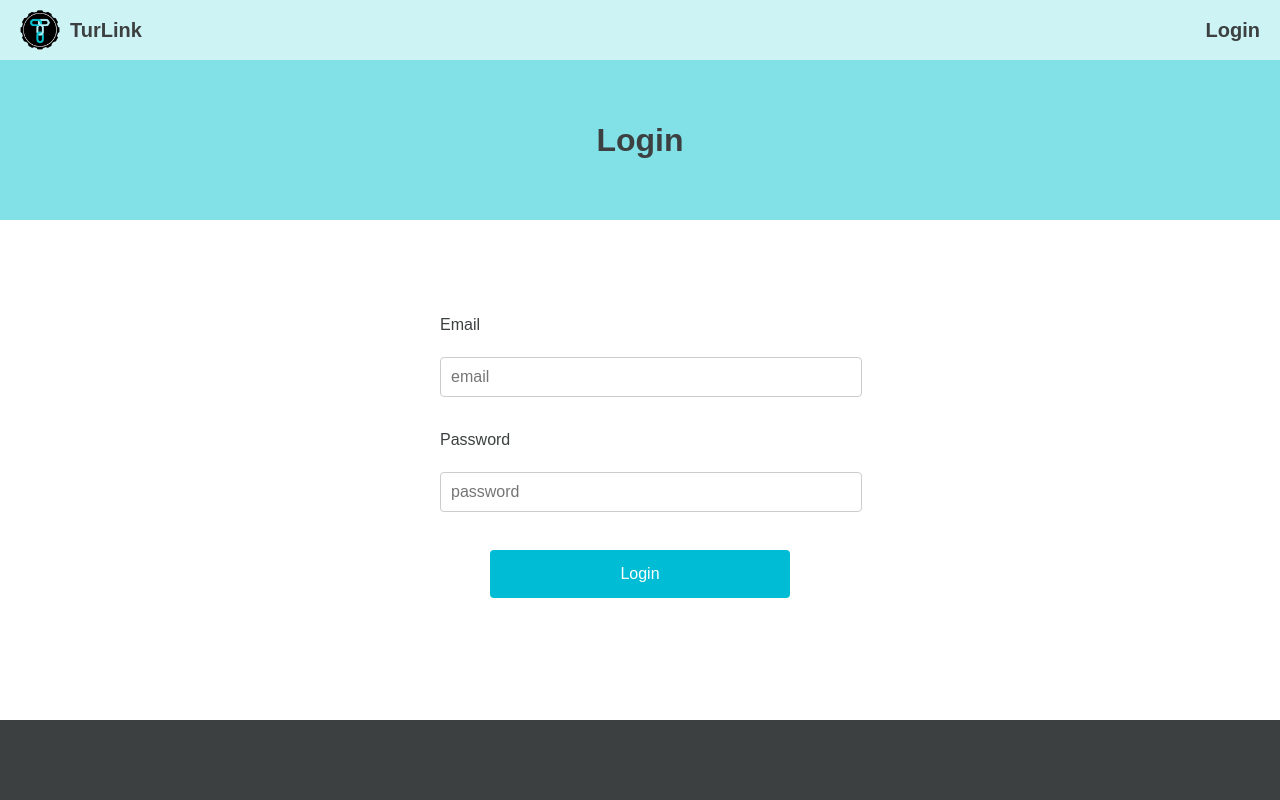
Test: Login Page Tests › should submit a second original link and return a second shortened link
This screenshot has width=1280, height=800.
Type "kim@example.com" into the field with class "email-input" at (651, 377), box [440, 357, 862, 397]
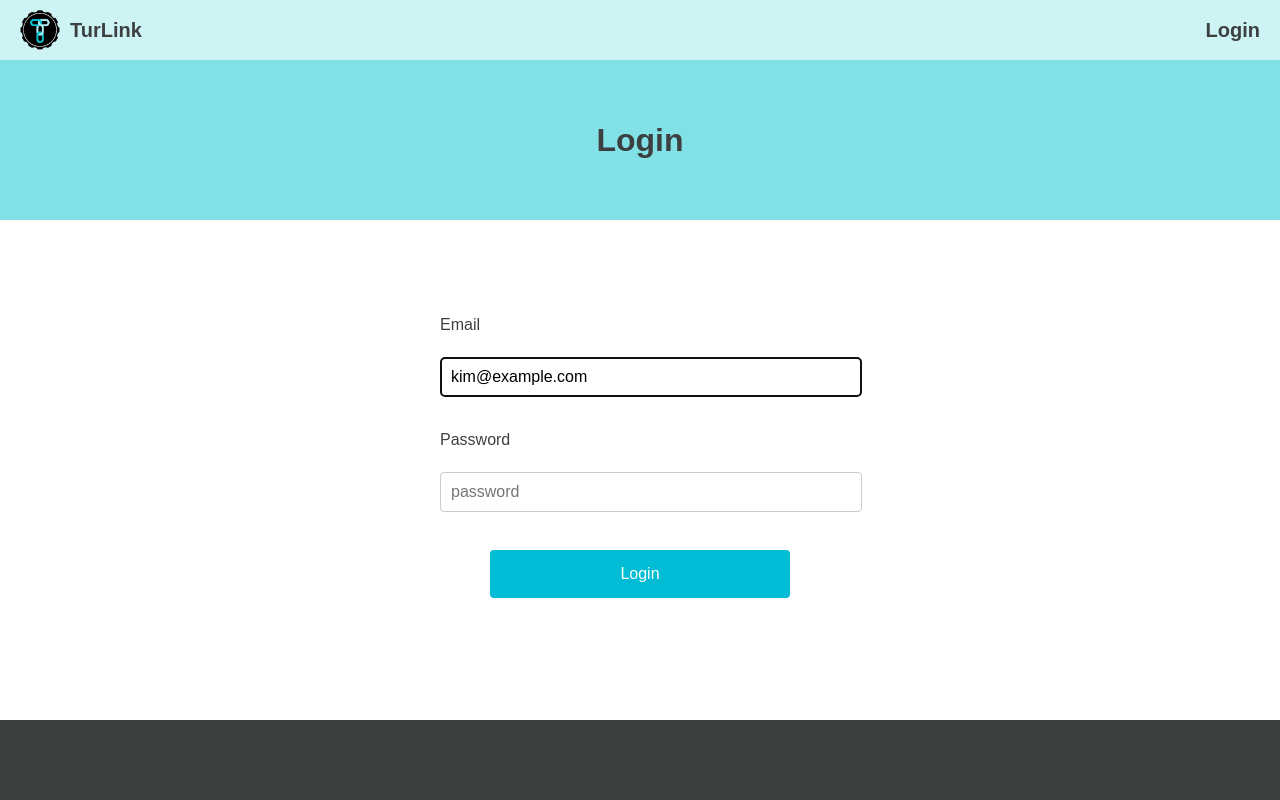
Type "kim123" into the password field with placeholder "password" at (651, 492), box [440, 472, 862, 512]
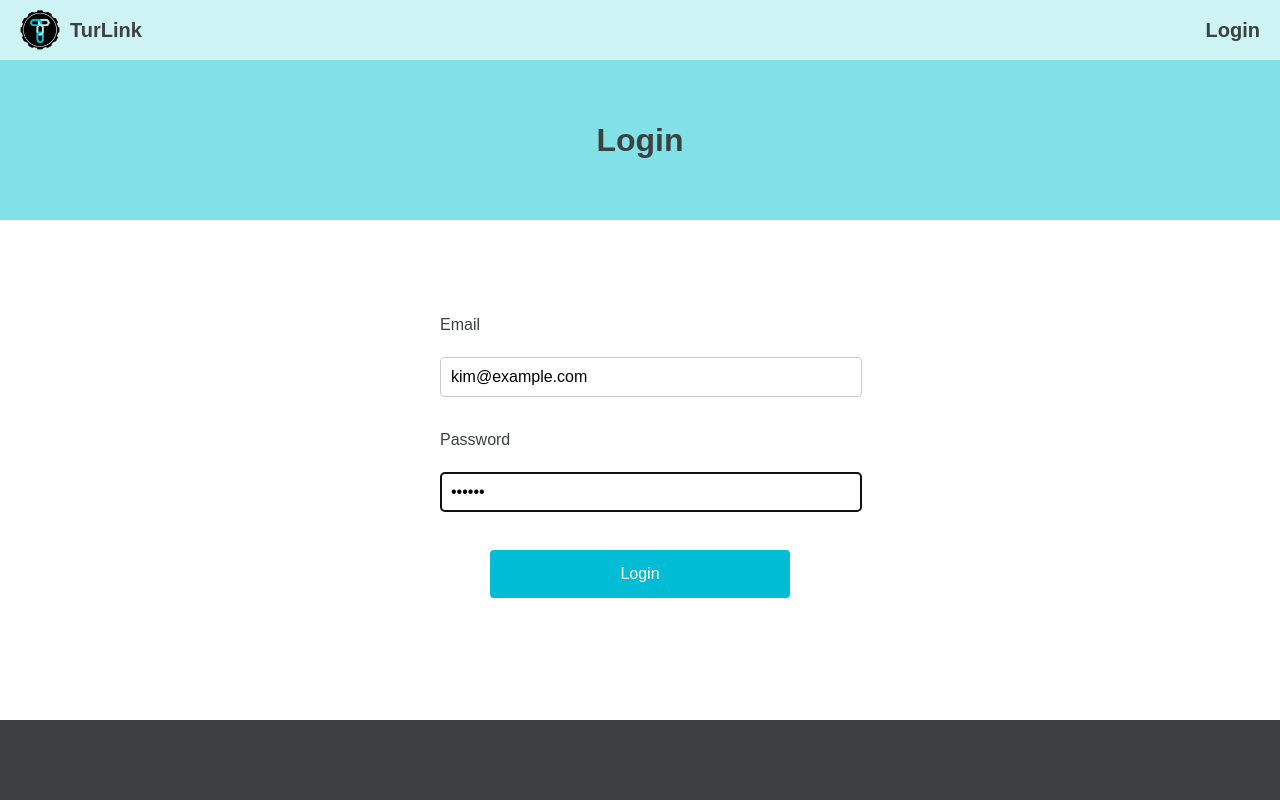
Click the button with class "login-button" at (640, 574), box [490, 550, 790, 598]
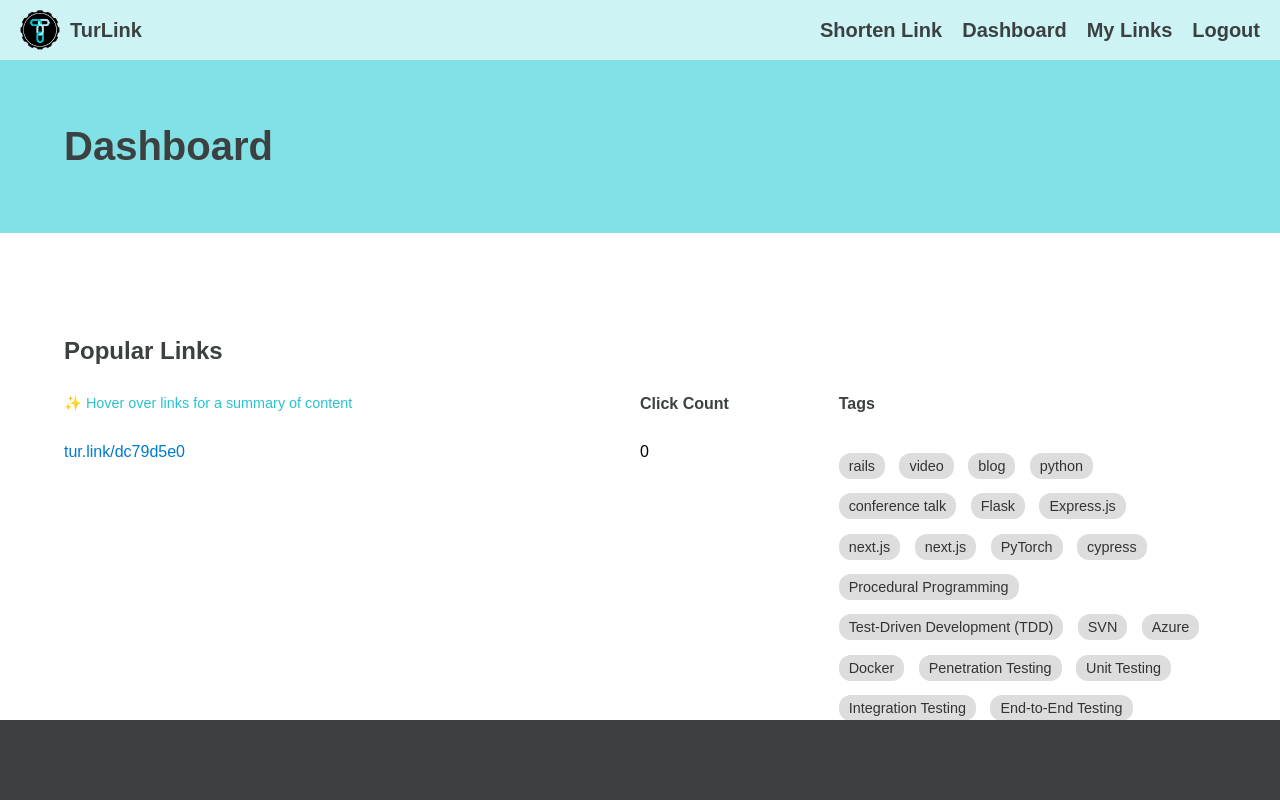
Expected: the navigation bar with class "navbar" is shown, [20, 10, 1260, 50]
Expected: the heading with class "dashboard-header" reads "Dashboard", [64, 124, 273, 168]
Click the link to "/shortenlink" at (881, 31), box [820, 19, 942, 42]
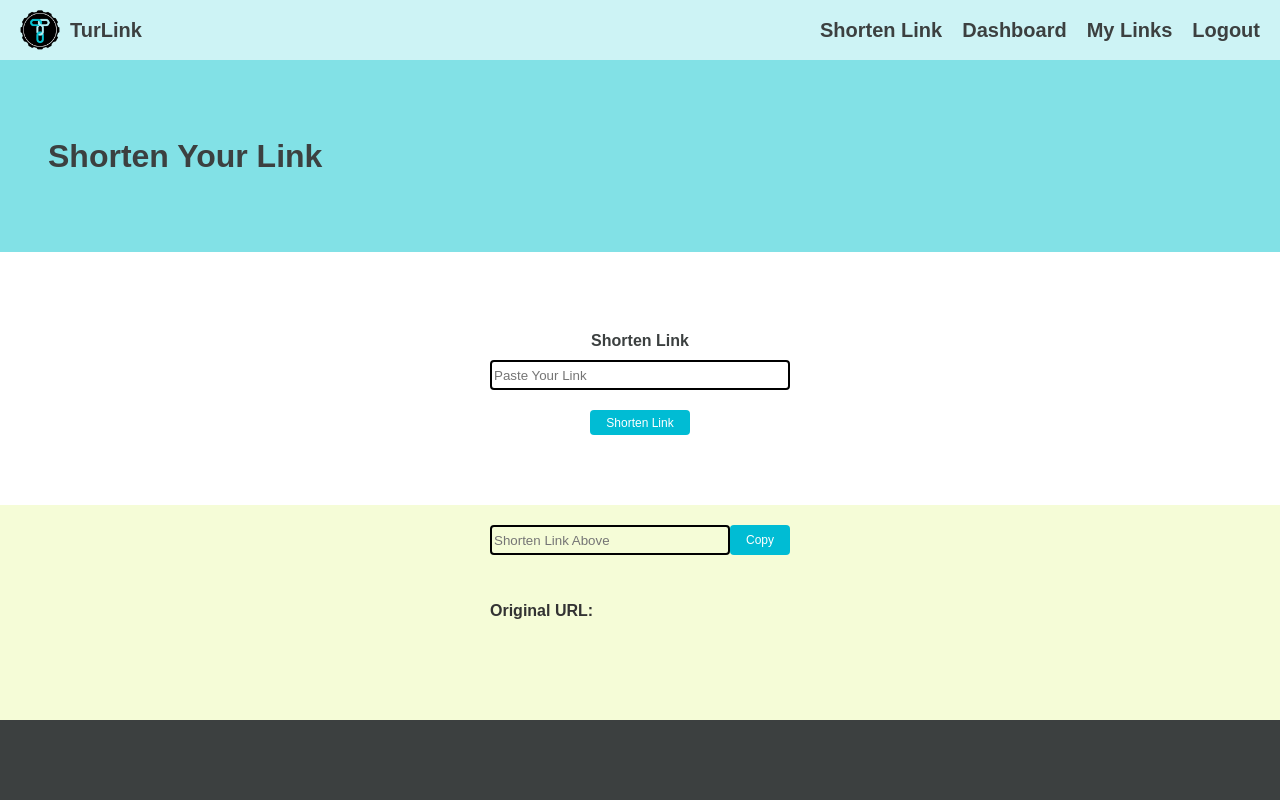
Type "www.example.com/CypressSecondExample" into the field with class "shorten-link-input" at (640, 375), box [490, 360, 790, 390]
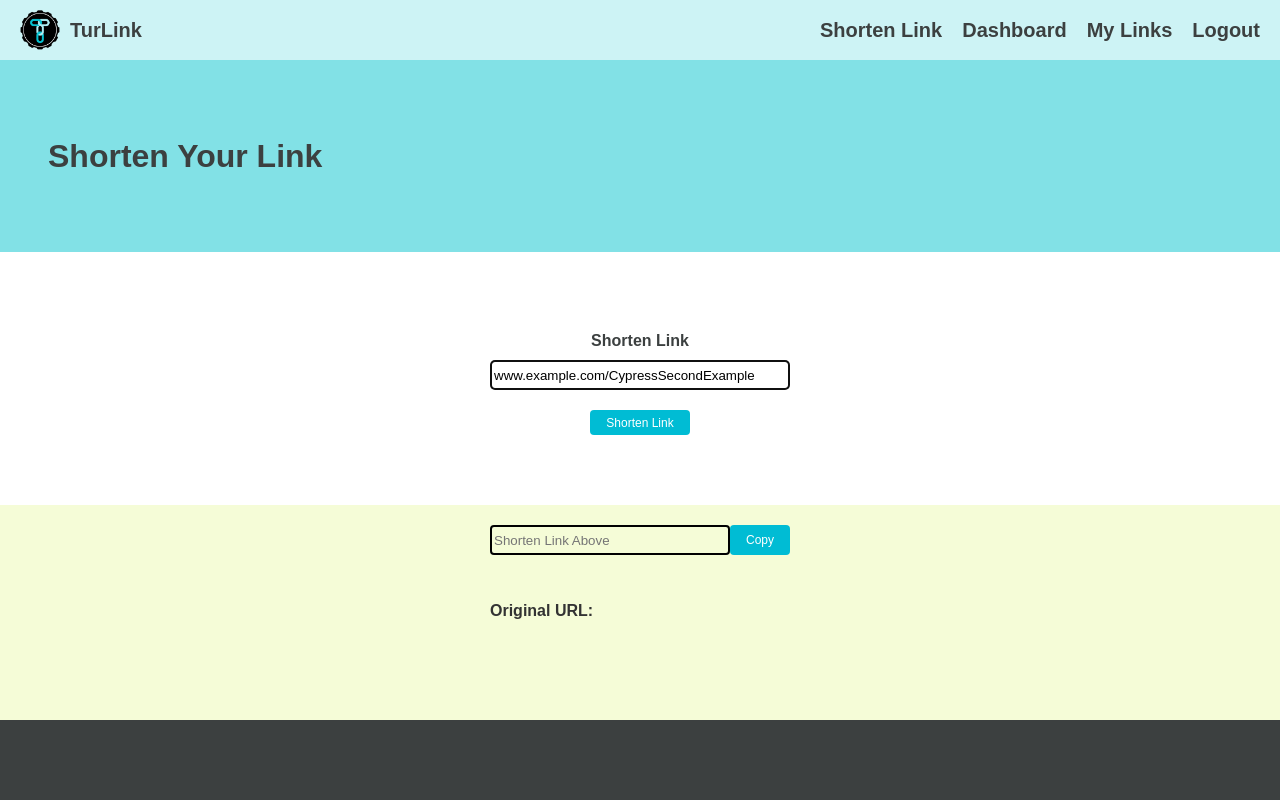
Click the button with class "shorten-link-button" at (640, 423), box [590, 410, 690, 435]
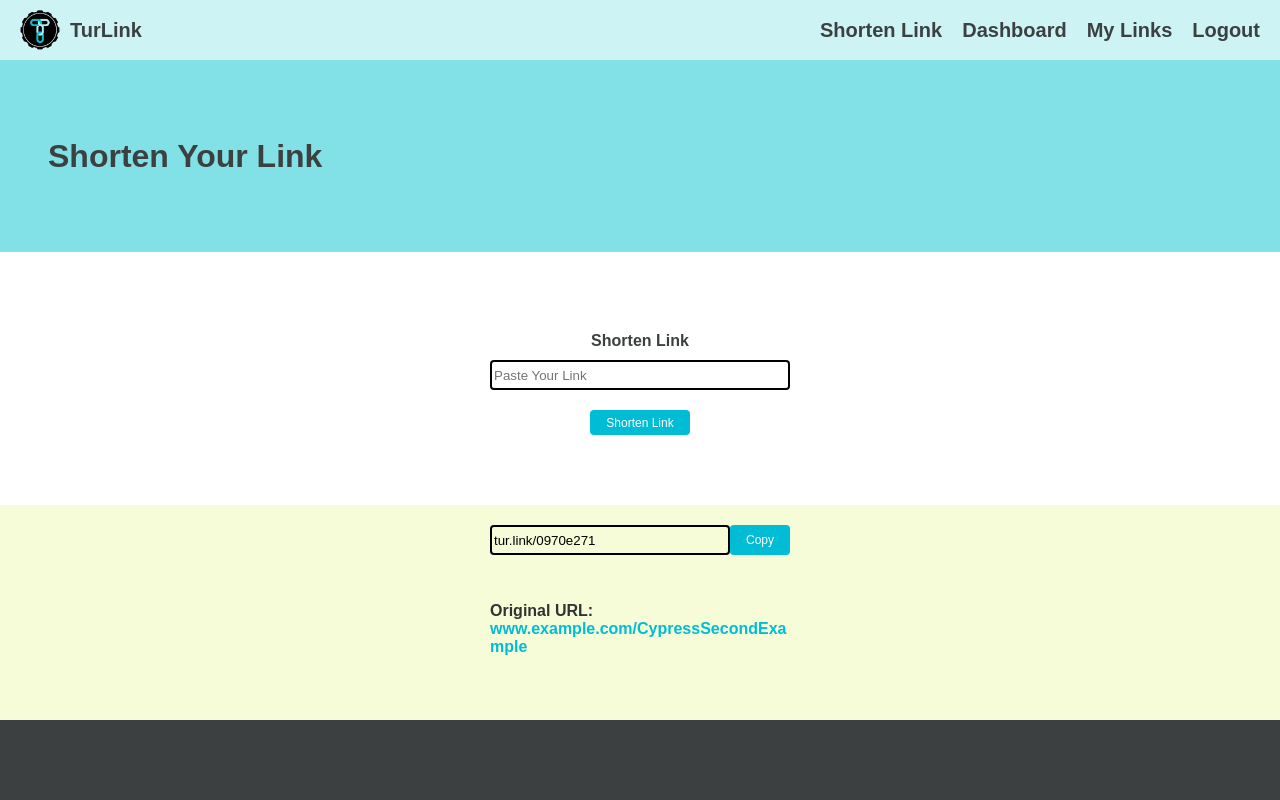
Expected: the field with class "shortened-link-input" holds "tur.link/0970e271", [490, 525, 730, 555]
